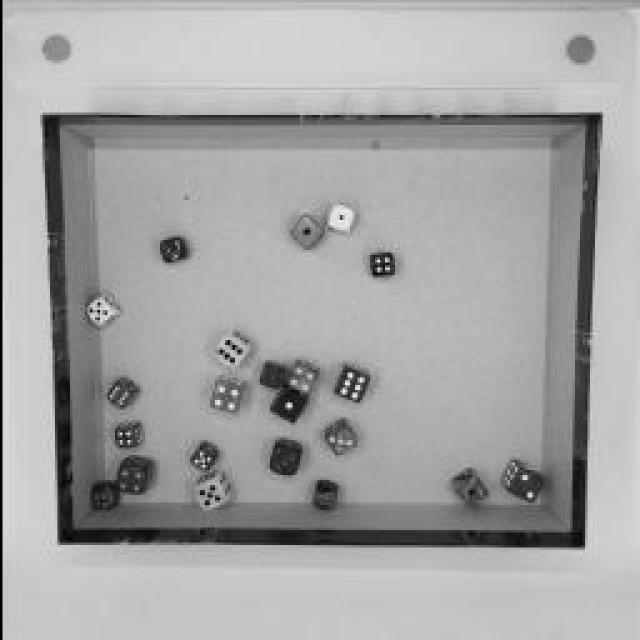dice_1: (268, 384, 310, 426), (449, 466, 489, 509), (288, 212, 328, 252), (325, 201, 355, 234), (258, 360, 288, 390)
dice_2: (500, 456, 548, 504)
dice_3: (321, 418, 359, 458), (268, 438, 302, 478), (156, 234, 189, 264)
dice_4: (112, 454, 152, 494), (208, 375, 248, 415), (282, 358, 322, 398), (88, 479, 120, 511), (113, 420, 145, 450), (309, 479, 339, 511), (365, 249, 395, 279)
dice_5: (192, 469, 232, 511), (83, 290, 125, 325), (188, 439, 224, 471)
dice_6: (208, 328, 252, 370), (332, 360, 372, 405), (102, 376, 142, 409)
